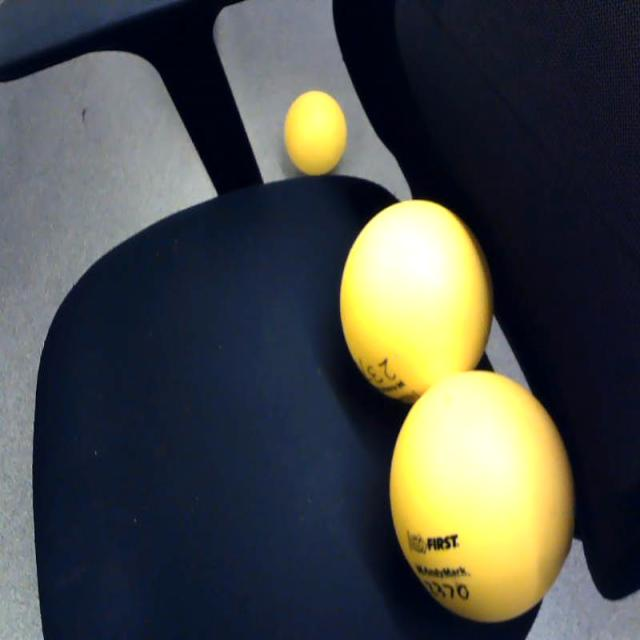Fuel: (389, 370, 576, 624), (339, 199, 495, 405), (284, 90, 347, 176)
